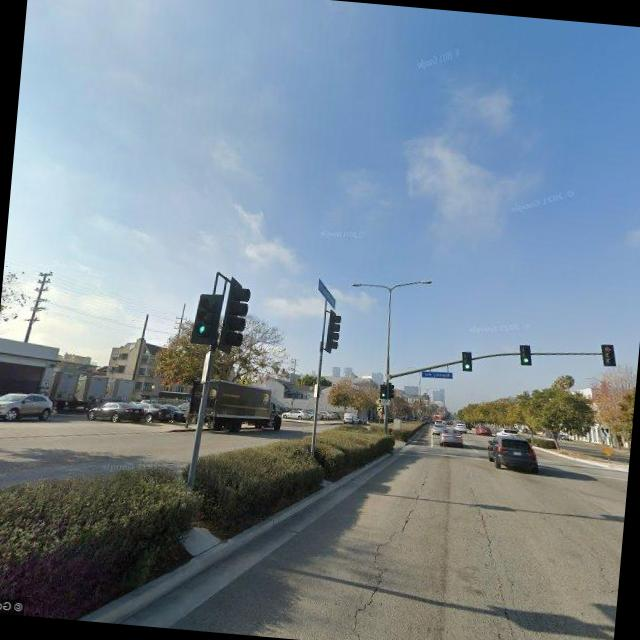pothole: (341, 460, 430, 640), (450, 478, 545, 640)
